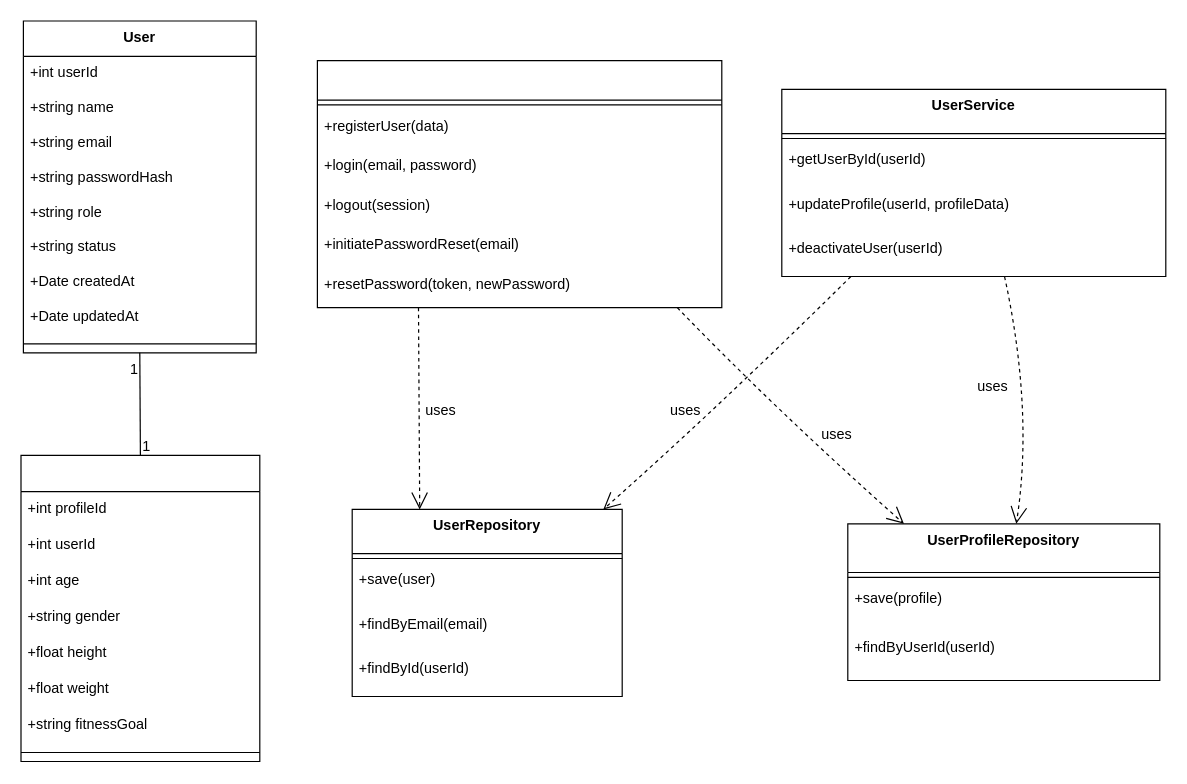
Image size: 1187x784. Some labels were removed from this diagram. Each missing label, with the box of its shape:
AuthService: (316, 59, 722, 308)
UserProfile: (20, 454, 260, 762)
